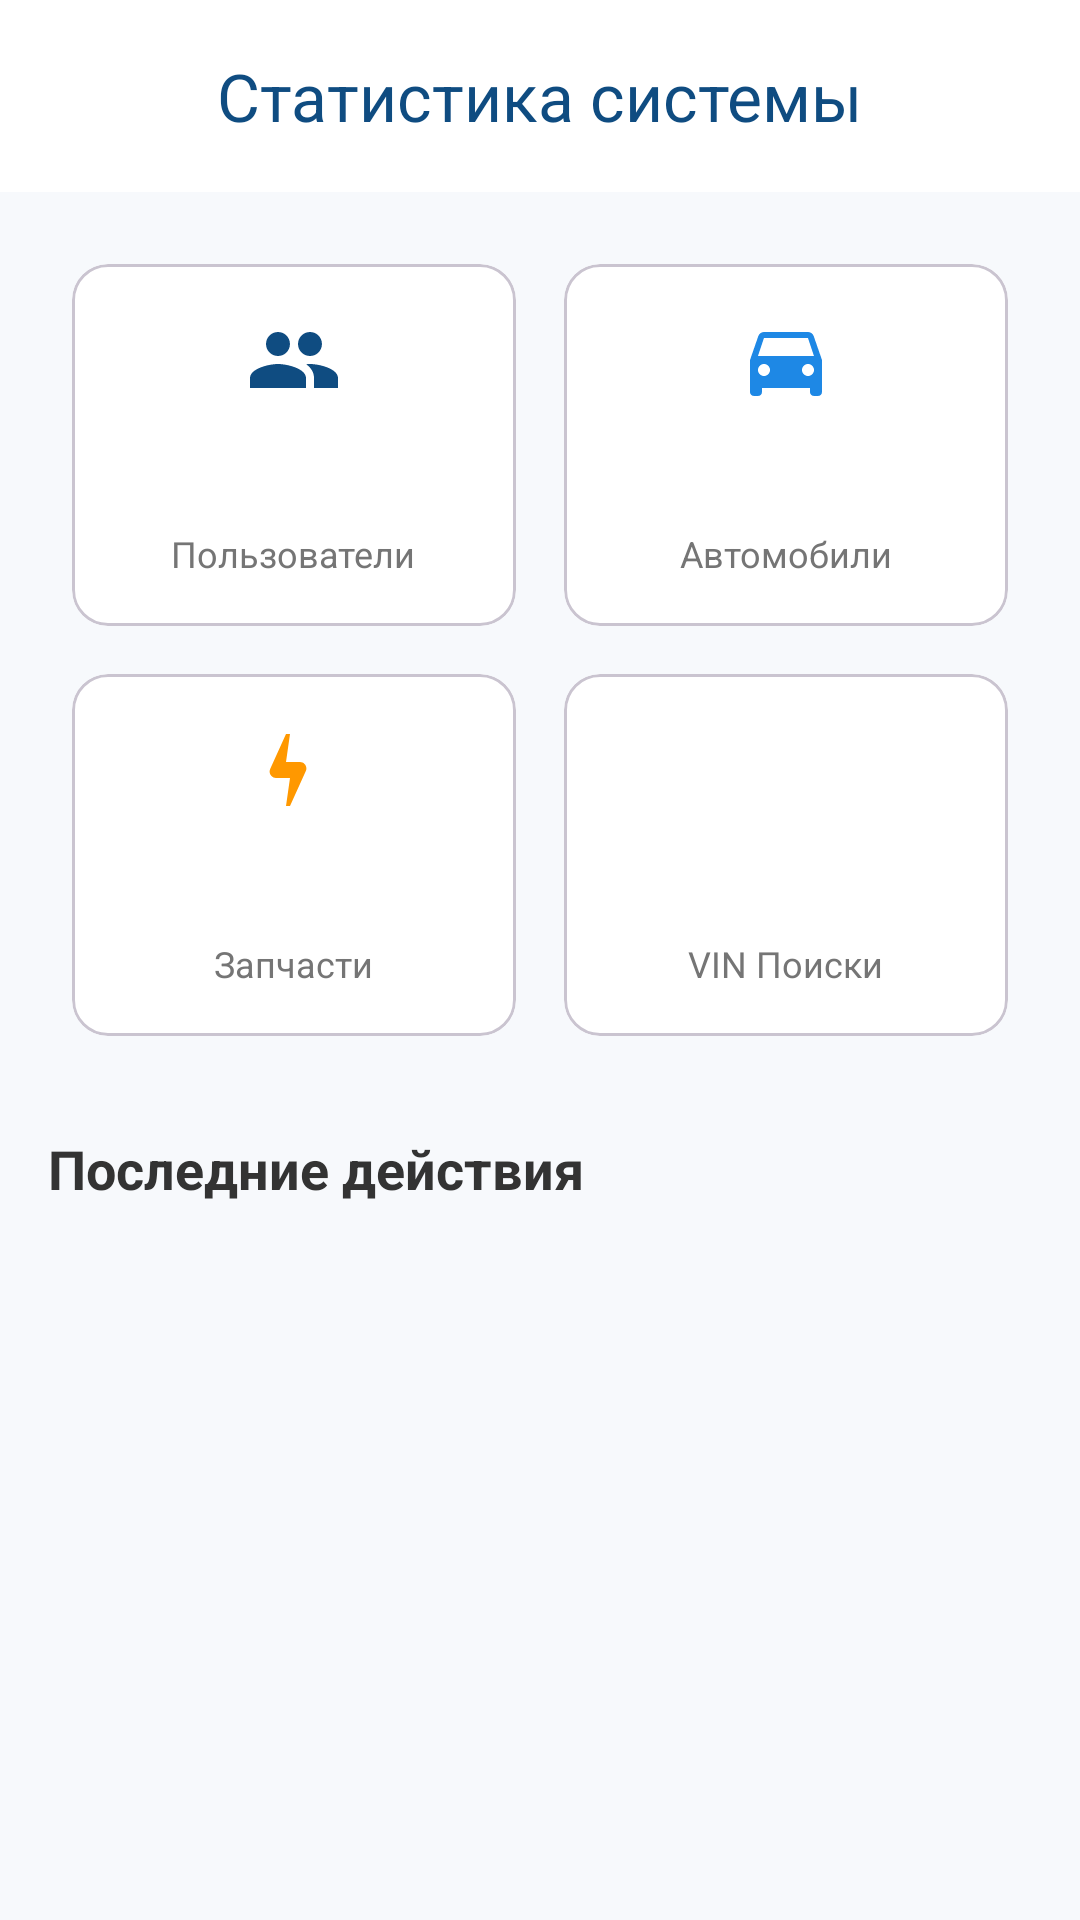

Point at icon controls on the screen. Image size 1080w x 1920h, points as [x,y].
people: [294,360]
